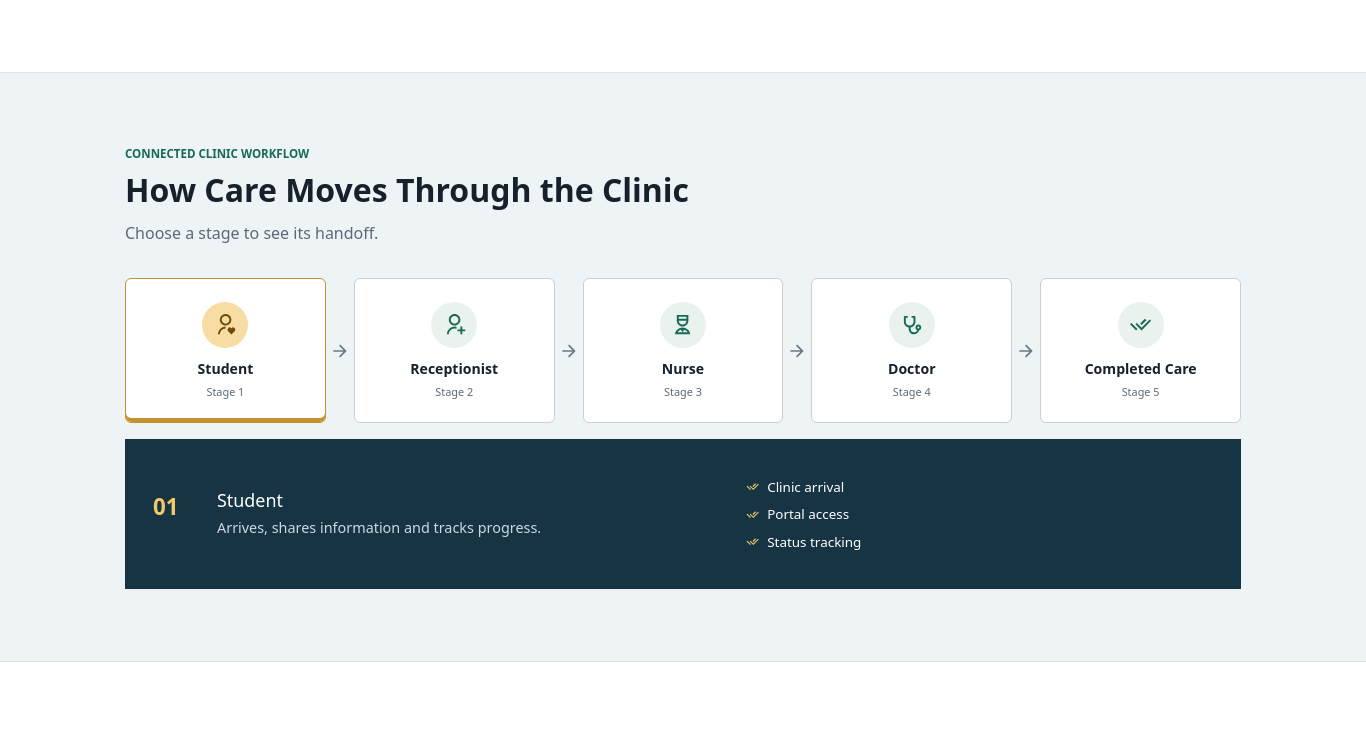
Test: care workflow exposes keyboard-focusable stages and updates its detail
The image size is (1366, 734).
(page scrolled)
Focus the button "Doctor Stage 4". click: (912, 351)
box: [811,278,1012,424]
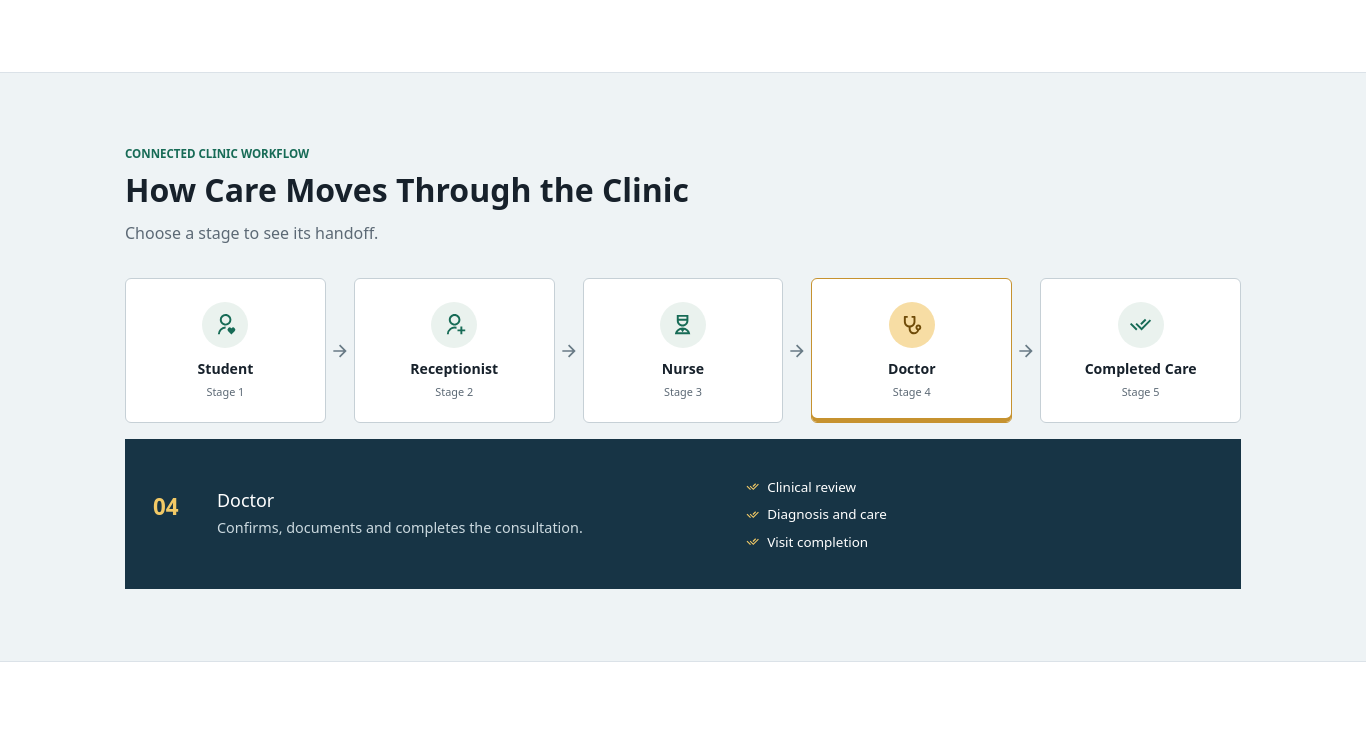
Expected: the list item "Diagnosis and care" is shown, [746,505,887,523]
